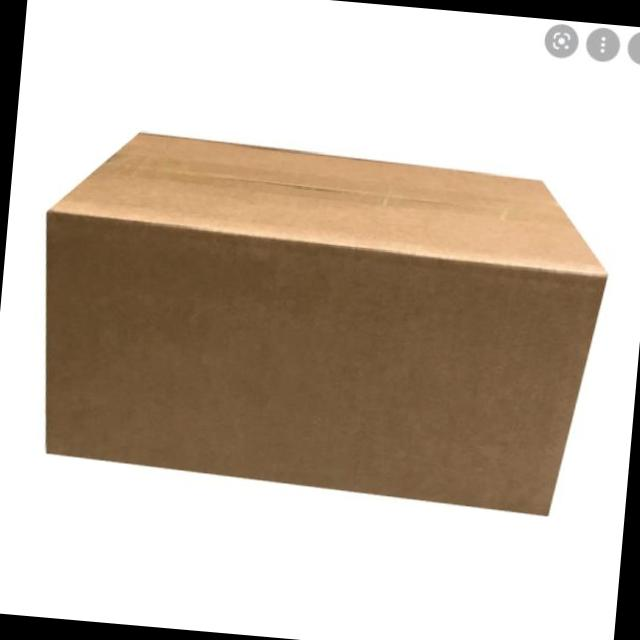box: (46, 130, 609, 518)
